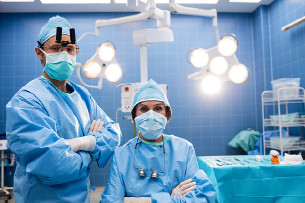face_mask: (42, 39, 75, 78), (135, 102, 165, 138)
